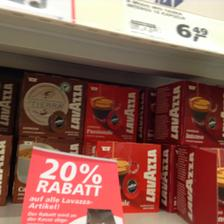Kaffee: (18, 72, 138, 140), (150, 80, 222, 144), (96, 143, 160, 211)
